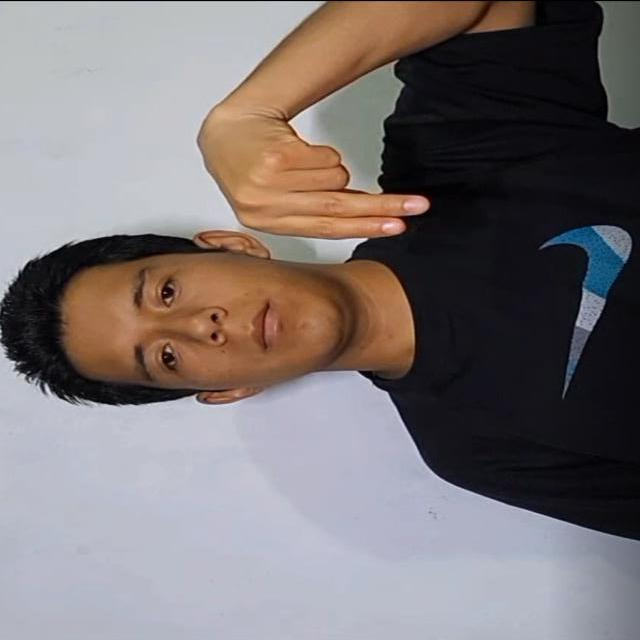N: (191, 88, 457, 248)
